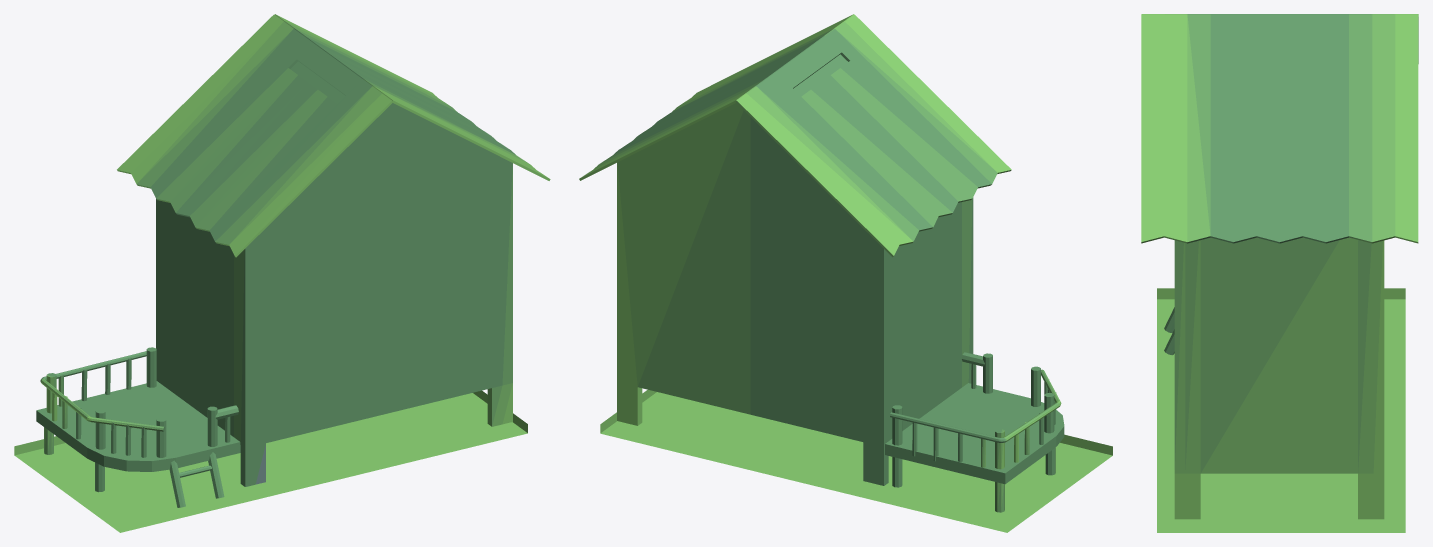
3 views of the same model, side by side, from view 1: azimuth 30°, elevation 25°; view 2: azimuth 150°, elevation 25°; view 3: azimuth 270°, elevation 25° (orthographic). The views are drawn at different scales.
Parts seen in each view (by area): view 1: world; view 2: world; view 3: world.
Boxes of the visible parts, left/top/right/bottom form: world: left=14, top=14, right=550, bottom=532; world: left=579, top=14, right=1112, bottom=532; world: left=1141, top=14, right=1418, bottom=532.
Size of the model in its own units: 1 by 0.8404 by 0.4831.
